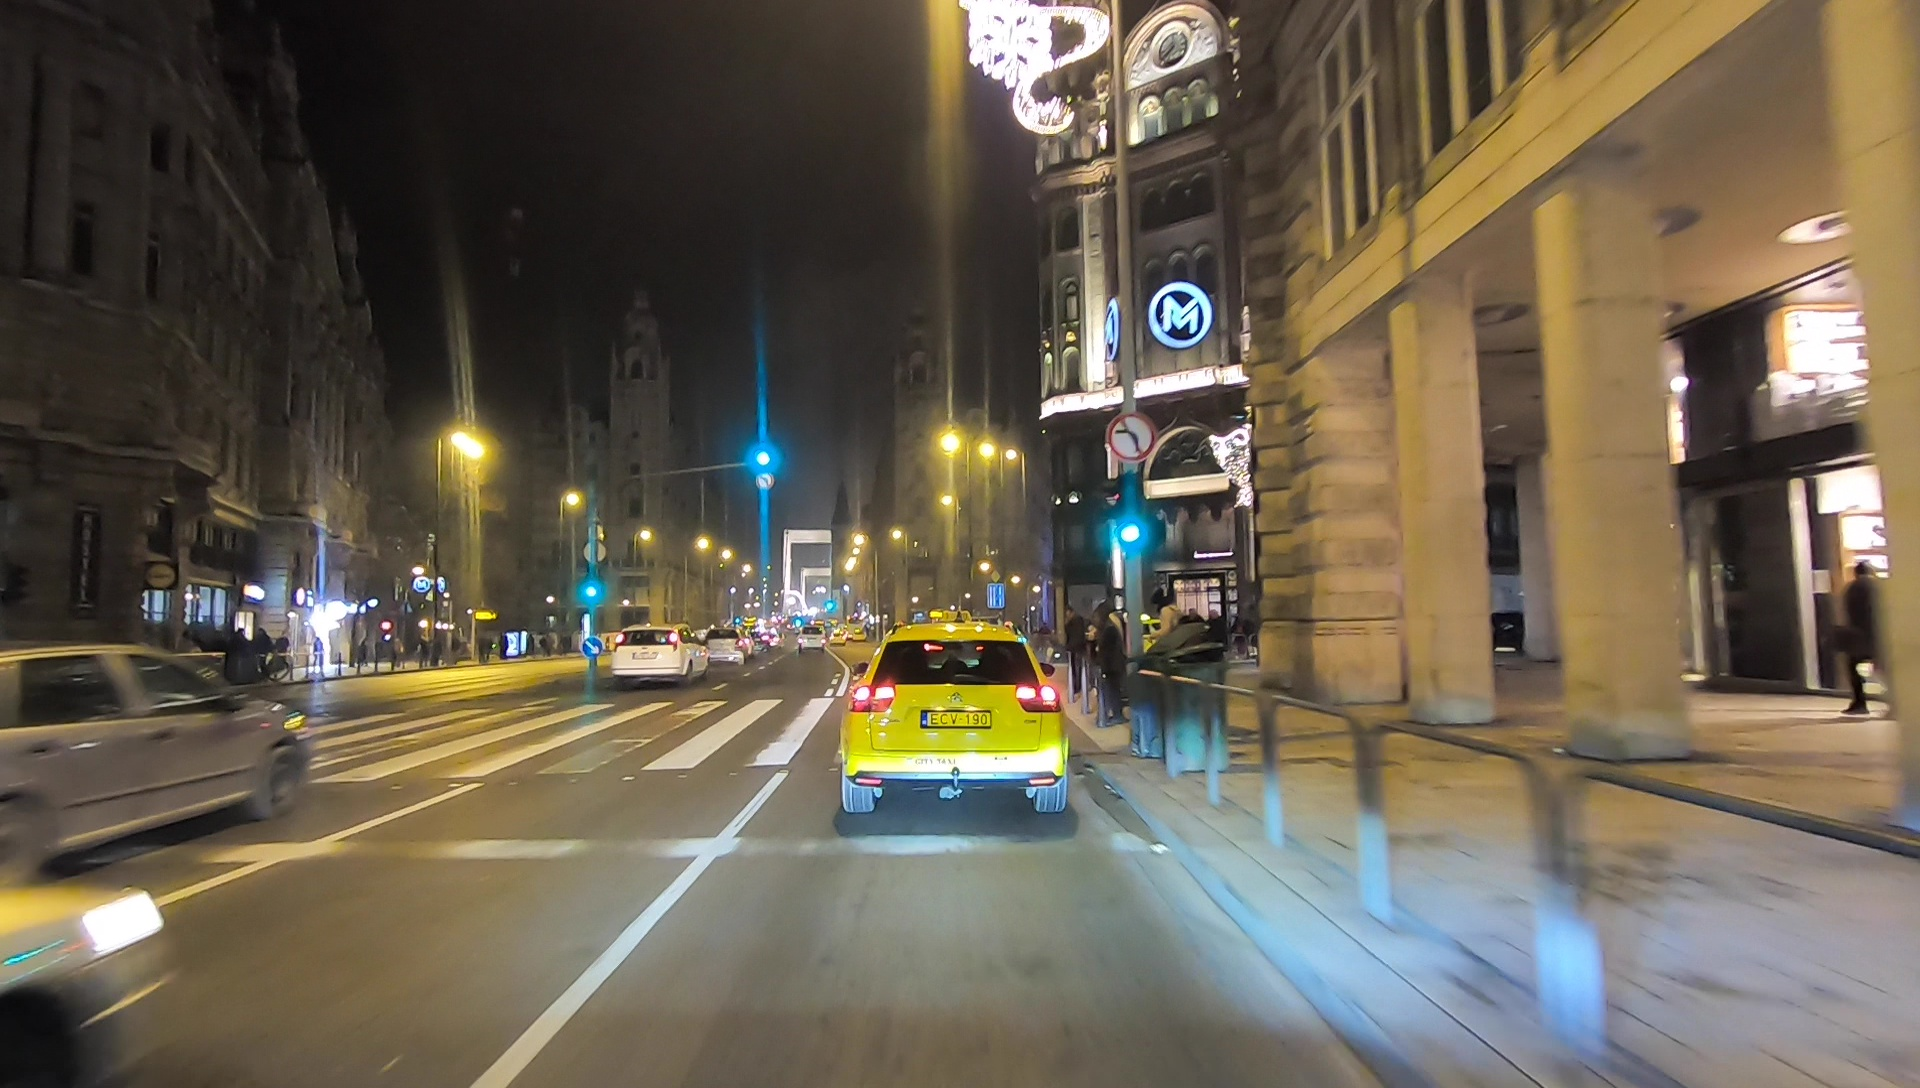person: (1834, 561, 1895, 719), (1144, 594, 1184, 711), (1088, 605, 1125, 725), (1062, 607, 1088, 703), (1183, 607, 1203, 700), (1206, 608, 1228, 693)
